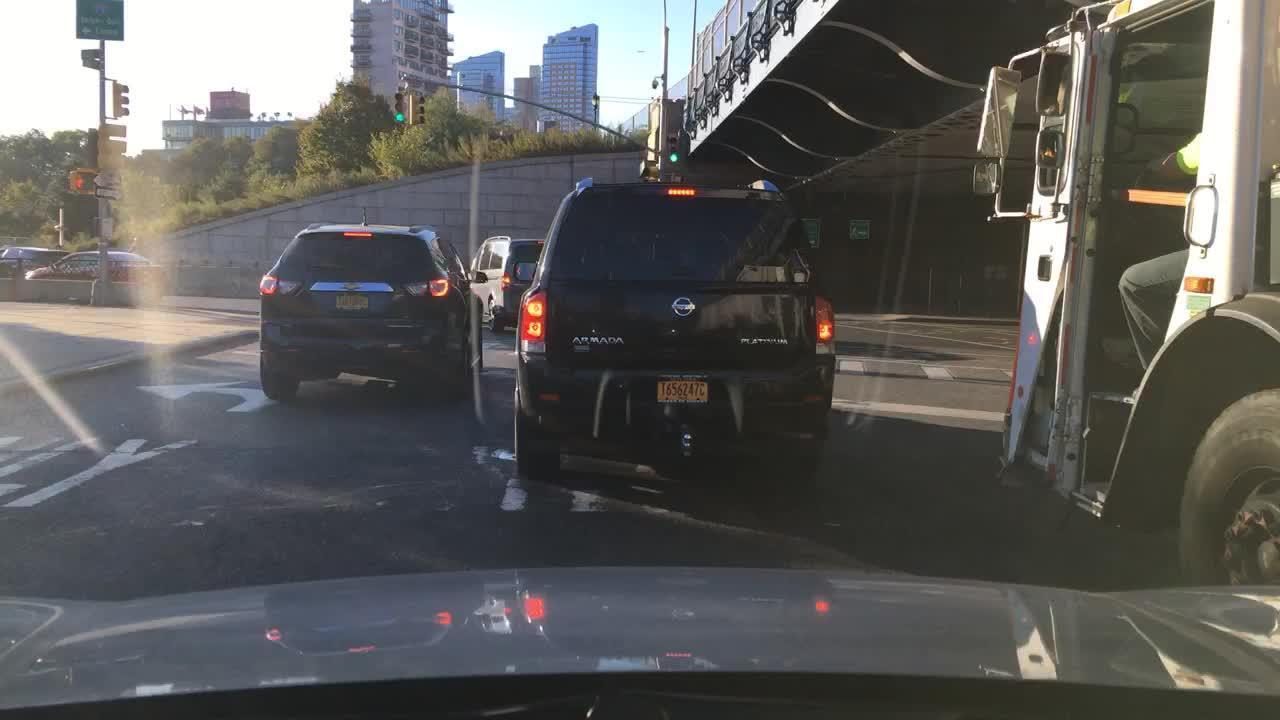Nissan: (666, 289, 701, 324)
